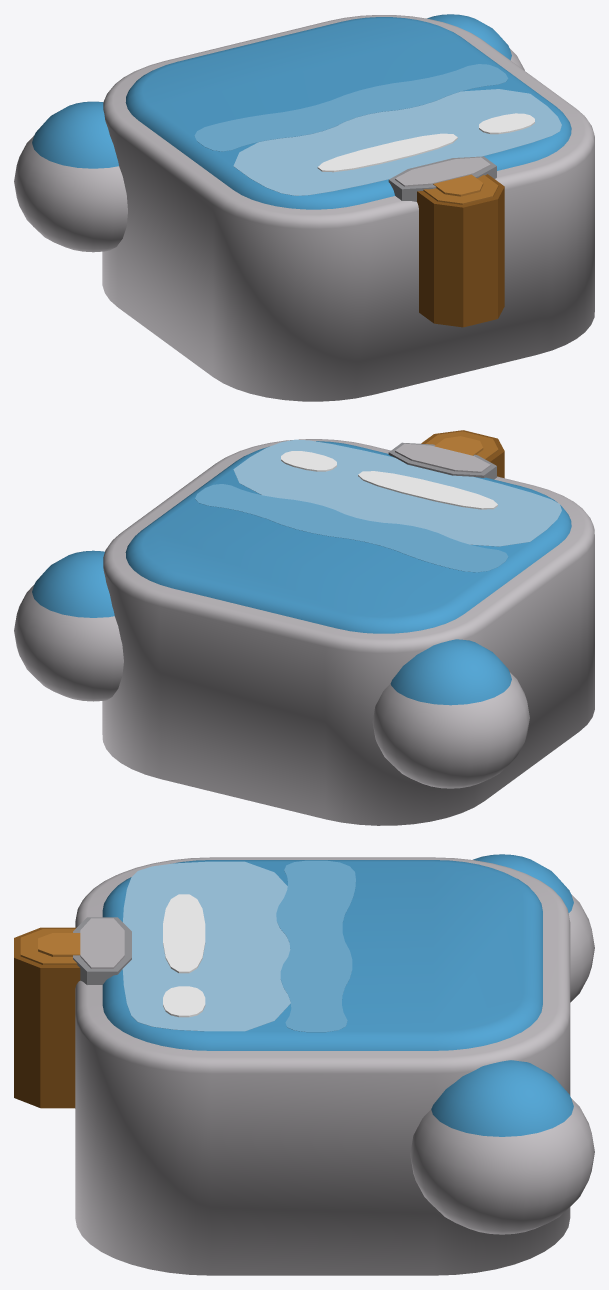
File: body_cantil.fbx
3 views of the same model, one above another, from view 1: azimuth 30°, elevation 25°; view 2: azimuth 150°, elevation 25°; view 3: azimuth 270°, elevation 25° (orthographic). The views are drawn at different scales.
Parts seen in each view (by area): view 1: body_cantil_corpo, body_cantil_mao_esq, body_cantil_mao; view 2: body_cantil_corpo, body_cantil_mao_esq, body_cantil_mao; view 3: body_cantil_corpo, body_cantil_mao, body_cantil_mao_esq.
Part boxes in pixels (<box>): body_cantil_corpo: <box>102,15,594,401</box>; body_cantil_mao_esq: <box>14,101,127,252</box>; body_cantil_mao: <box>427,14,524,70</box>; body_cantil_corpo: <box>102,430,594,825</box>; body_cantil_mao_esq: <box>372,639,529,788</box>; body_cantil_mao: <box>14,550,123,701</box>; body_cantil_corpo: <box>14,857,570,1275</box>; body_cantil_mao: <box>410,1060,594,1234</box>; body_cantil_mao_esq: <box>473,854,594,1002</box>.
Size of the model in its own units: 5.4 by 2.04 by 4.69.
1 material, 1 textured.
